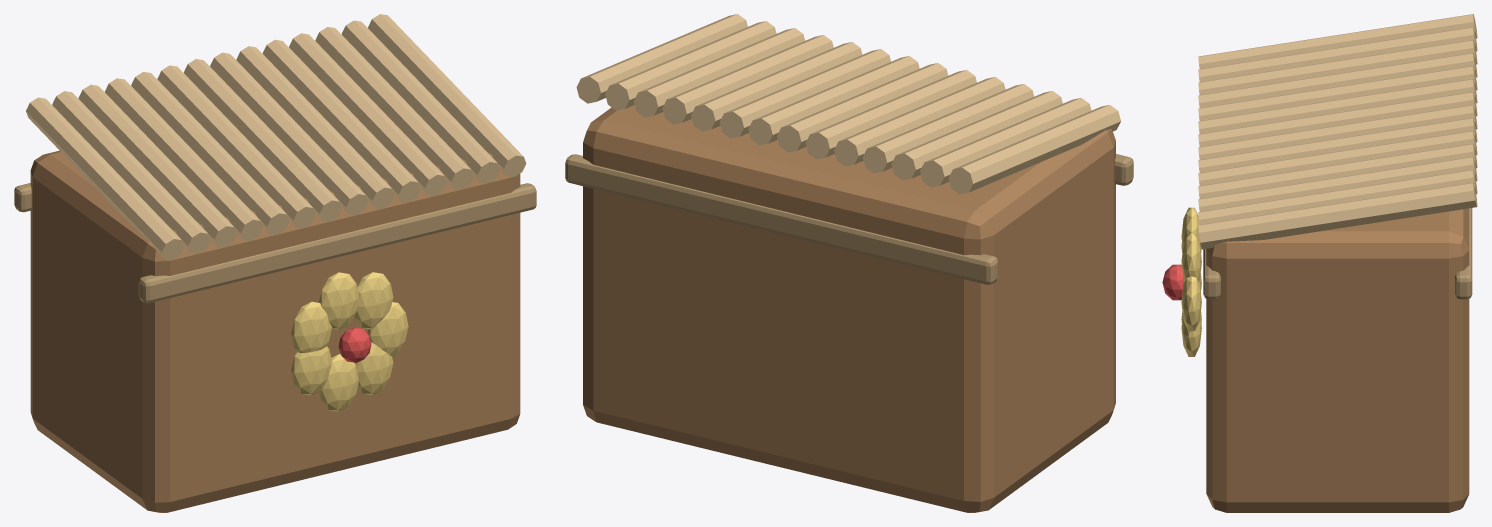
File: ritual_saisen_box.glb
3 renders of one model, left to right at view 1: azimuth 30°, elevation 25°; view 2: azimuth 150°, elevation 25°; view 3: azimuth 270°, elevation 25°, orthographic. The views are drawn at different scales.
Parts seen in each view (by area): view 1: Heavy saisen offering box, Box bronze rail, Sloped saisen receiving grate, Sloped saisen receiving grate.007, Sloped saisen receiving grate.003, Sloped saisen receiving grate.011, Sloped saisen receiving grate.010, Sloped saisen receiving grate.005, Sloped saisen receiving grate.004, Sloped saisen receiving grate.012, Sloped saisen receiving grate.002, Sloped saisen receiving grate.006 (+12 smaller); view 2: Heavy saisen offering box, Box bronze rail.001, Sloped saisen receiving grate, Sloped saisen receiving grate.002, Sloped saisen receiving grate.007, Sloped saisen receiving grate.010, Sloped saisen receiving grate.003, Sloped saisen receiving grate.001, Sloped saisen receiving grate.012, Sloped saisen receiving grate.005, Sloped saisen receiving grate.011, Sloped saisen receiving grate.006 (+4 smaller); view 3: Heavy saisen offering box, Sloped saisen receiving grate.013, Sloped saisen receiving grate.010, Sloped saisen receiving grate, Sloped saisen receiving grate.007, Sloped saisen receiving grate.012, Sloped saisen receiving grate.001, Sloped saisen receiving grate.003, Sloped saisen receiving grate.004, Sloped saisen receiving grate.006, Sloped saisen receiving grate.009, Sloped saisen receiving grate.011 (+10 smaller).
Boxes of the visible parts, box(x1,y1,x2,y2) form: Heavy saisen offering box: box(30, 148, 520, 512); Box bronze rail: box(138, 183, 536, 303); Sloped saisen receiving grate: box(26, 97, 184, 260); Sloped saisen receiving grate.007: box(210, 52, 368, 215); Sloped saisen receiving grate.003: box(105, 78, 263, 241); Sloped saisen receiving grate.011: box(315, 27, 473, 189); Sloped saisen receiving grate.010: box(289, 33, 447, 196); Sloped saisen receiving grate.005: box(157, 65, 315, 228); Sloped saisen receiving grate.004: box(131, 72, 289, 234); Sloped saisen receiving grate.012: box(341, 20, 499, 183); Sloped saisen receiving grate.002: box(78, 84, 236, 247); Sloped saisen receiving grate.006: box(183, 59, 341, 221); Heavy saisen offering box: box(583, 105, 1115, 512); Box bronze rail.001: box(565, 154, 998, 284); Sloped saisen receiving grate: box(948, 105, 1120, 194); Sloped saisen receiving grate.002: box(891, 91, 1062, 180); Sloped saisen receiving grate.007: box(748, 56, 919, 145); Sloped saisen receiving grate.010: box(662, 35, 833, 124); Sloped saisen receiving grate.003: box(863, 84, 1033, 173); Sloped saisen receiving grate.001: box(920, 98, 1091, 187); Sloped saisen receiving grate.012: box(605, 21, 776, 110); Sloped saisen receiving grate.005: box(805, 70, 976, 159); Sloped saisen receiving grate.011: box(634, 28, 805, 117); Sloped saisen receiving grate.006: box(777, 63, 948, 152); Heavy saisen offering box: box(1206, 208, 1469, 512); Sloped saisen receiving grate.013: box(1198, 182, 1477, 249); Sloped saisen receiving grate.010: box(1198, 144, 1477, 198); Sloped saisen receiving grate: box(1198, 14, 1477, 68); Sloped saisen receiving grate.007: box(1198, 105, 1477, 159); Sloped saisen receiving grate.012: box(1198, 169, 1477, 224); Sloped saisen receiving grate.001: box(1198, 27, 1477, 81); Sloped saisen receiving grate.003: box(1198, 53, 1477, 107); Sloped saisen receiving grate.004: box(1198, 66, 1477, 120); Sloped saisen receiving grate.006: box(1198, 92, 1477, 146); Sloped saisen receiving grate.009: box(1198, 131, 1477, 185); Sloped saisen receiving grate.011: box(1198, 156, 1477, 211).
Bounding box in the file's own units: 1.95 × 1.55 × 1.34.
